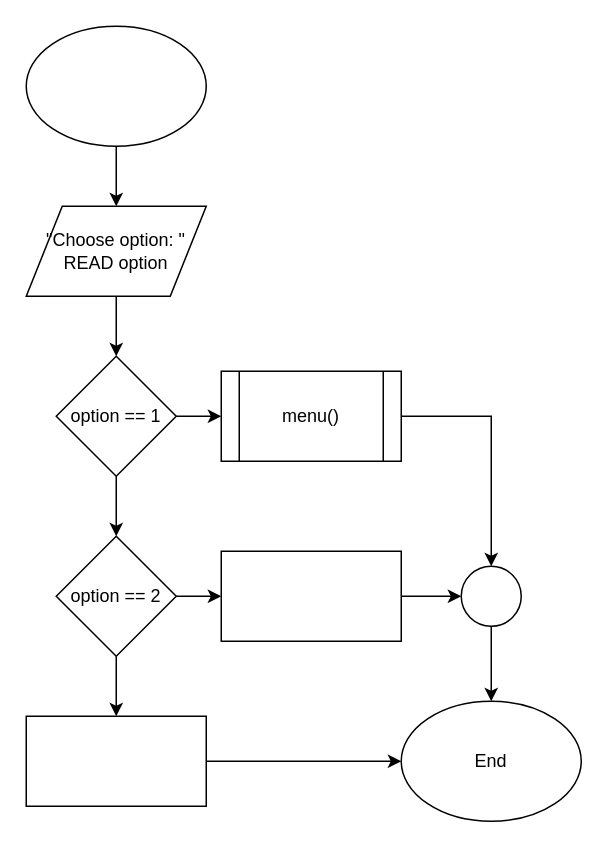
Some shapes in this 608 by 848 pixel diagram are drawn without their labels. Here are the shapes that lost their labels. From the top down, the centre of each, then its label:
At (310,595): "PRINT goodbye message".
At (115,760): "PRINT easter egg goodbye message".
